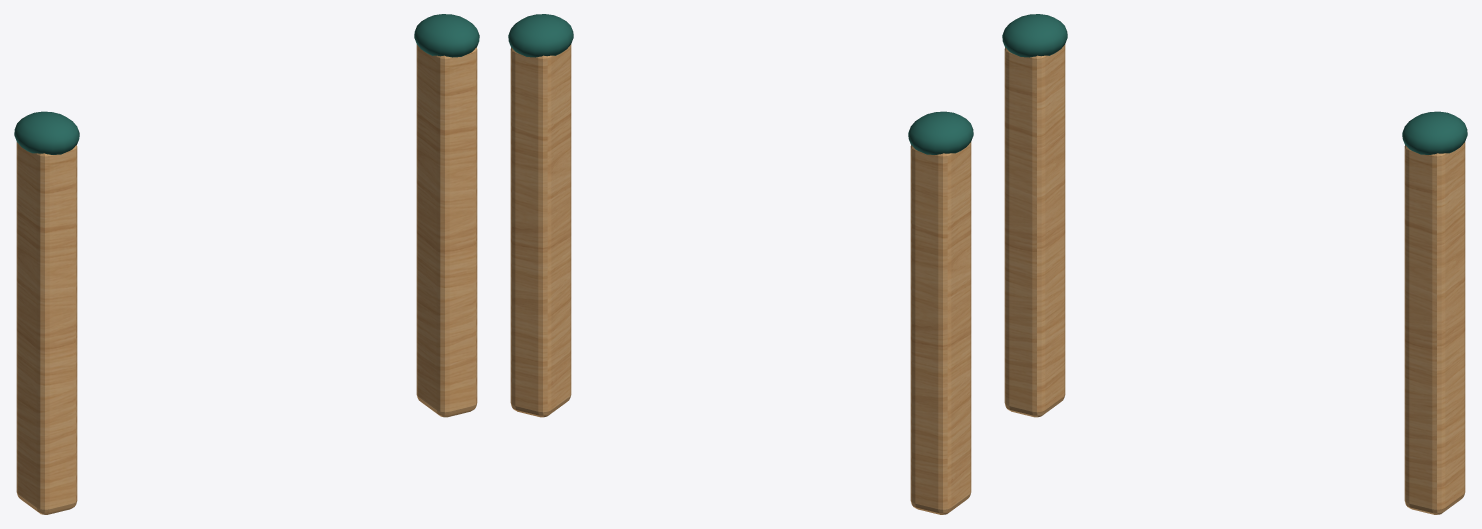
Rendered from gate_frame.glb.
3 views of the same model, side by side, from view 1: azimuth 30°, elevation 25°; view 2: azimuth 150°, elevation 25°; view 3: azimuth 330°, elevation 25° (orthographic).
Visible parts, largest first — view 1: Gate post, Gate post.001, Post cap.001, Post cap; view 2: Gate post, Gate post.001, Post cap.001, Post cap; view 3: Gate post.001, Gate post, Post cap, Post cap.001.
Part boxes in pixels (x1,y1,x2,y2): Gate post: (16,142,77,514); Gate post.001: (416,44,477,417); Post cap.001: (14,111,79,154); Post cap: (414,14,479,57); Gate post: (910,142,971,514); Gate post.001: (510,44,571,417); Post cap.001: (908,111,973,154); Post cap: (508,14,573,57); Gate post.001: (1404,142,1465,514); Gate post: (1004,44,1065,417); Post cap: (1402,111,1467,154); Post cap.001: (1002,14,1067,57).
Bounding box in the file's own units: 1.39 × 1.13 × 0.19.
2 materials, 1 textured.
